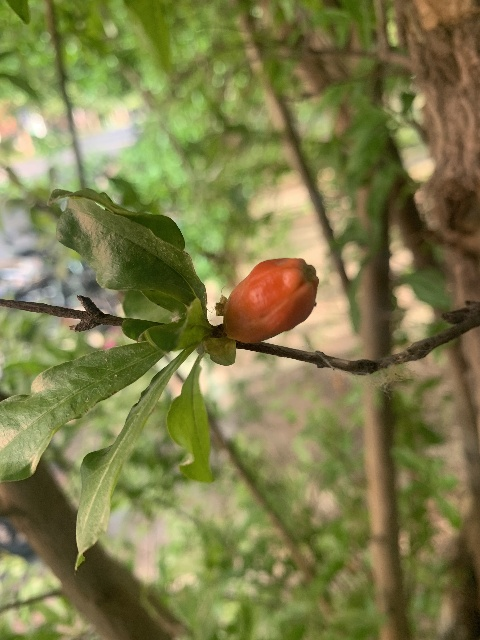bud: (223, 258, 318, 344)
